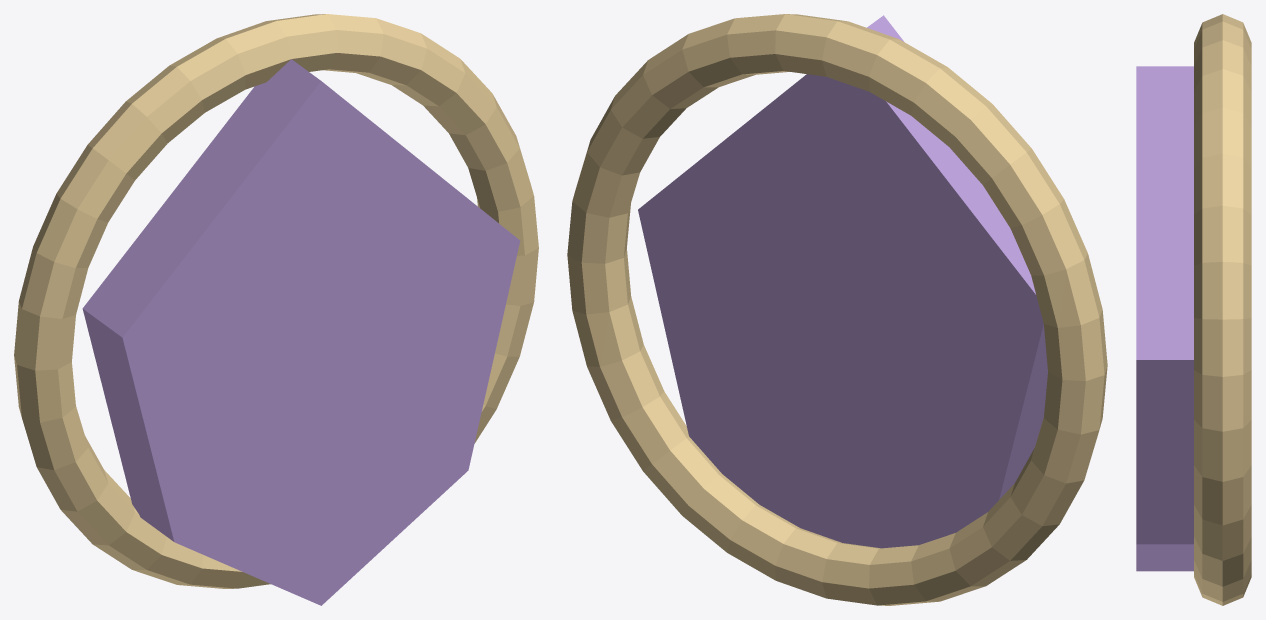
The model's file is ACC_Gem_Brooch_Violet.glb.
The picture shows the model from 3 angles, left to right: view 1: azimuth 30°, elevation 25°; view 2: azimuth 150°, elevation 25°; view 3: azimuth 270°, elevation 25°; orthographic projection. The views are drawn at different scales.
Visible parts, largest first — view 1: ACC_Gem_Brooch_Violet_2, ACC_Gem_Brooch_Violet_1; view 2: ACC_Gem_Brooch_Violet_2, ACC_Gem_Brooch_Violet_1; view 3: ACC_Gem_Brooch_Violet_1, ACC_Gem_Brooch_Violet_2.
Part boxes in pixels (bbox=[...]): ACC_Gem_Brooch_Violet_2: bbox=[82, 59, 520, 605]; ACC_Gem_Brooch_Violet_1: bbox=[14, 14, 538, 588]; ACC_Gem_Brooch_Violet_2: bbox=[638, 15, 1047, 548]; ACC_Gem_Brooch_Violet_1: bbox=[567, 14, 1107, 605]; ACC_Gem_Brooch_Violet_1: bbox=[1194, 14, 1251, 605]; ACC_Gem_Brooch_Violet_2: bbox=[1136, 66, 1193, 571].
Bounding box in the file's own units: 0.06 × 0.062 × 0.012.
